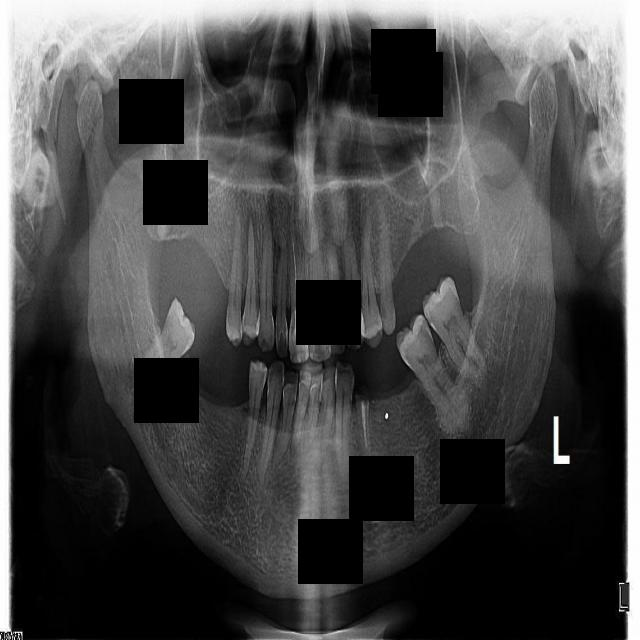72: (355, 392, 375, 468), (155, 191, 176, 239)
74: (289, 234, 299, 294)
Sterngold Implant: (419, 316, 431, 338), (425, 308, 435, 329), (339, 319, 344, 339), (329, 323, 334, 341), (381, 302, 386, 320)
Straumann Implant: (285, 307, 312, 365), (318, 332, 333, 360), (308, 331, 315, 361)
